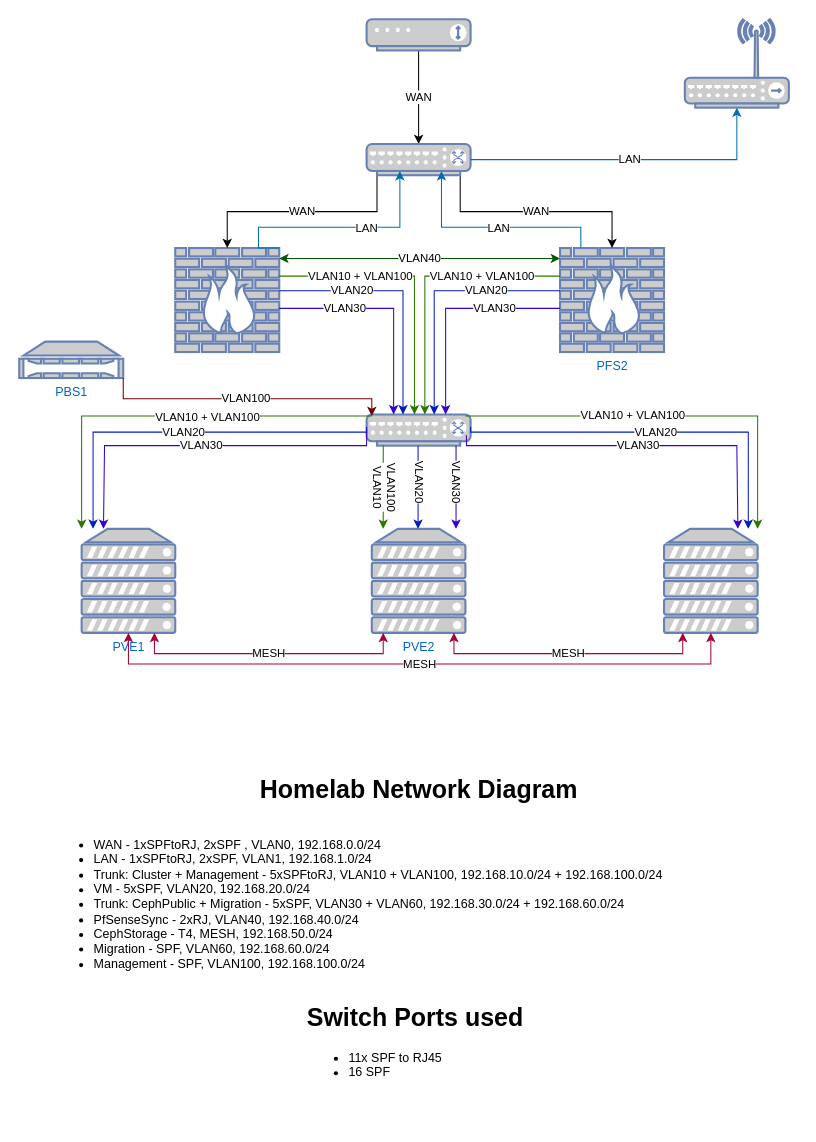
Some shapes in this 816 by 1142 pixel diagram are drawn without their labels. Here are the shapes that lost their labels. From the top down, the centre of each, then its label:
the point at 227,299: PFS1
the point at 710,580: PVE3
